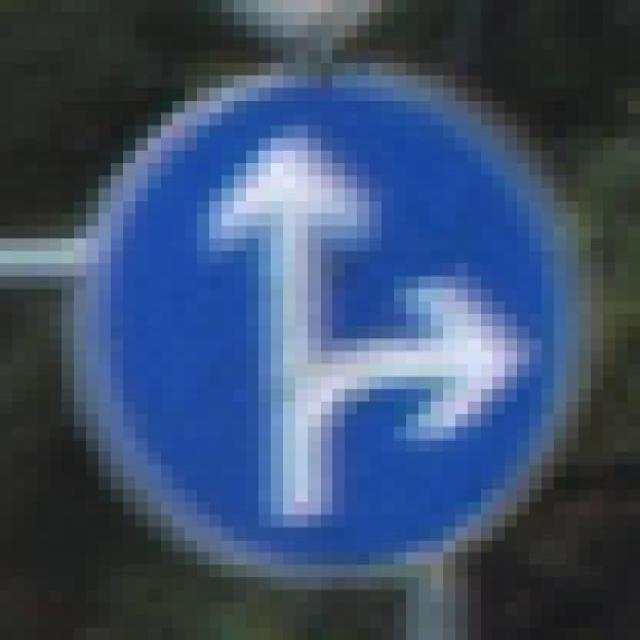Go Straight or Turn Right: (49, 62, 603, 590)
